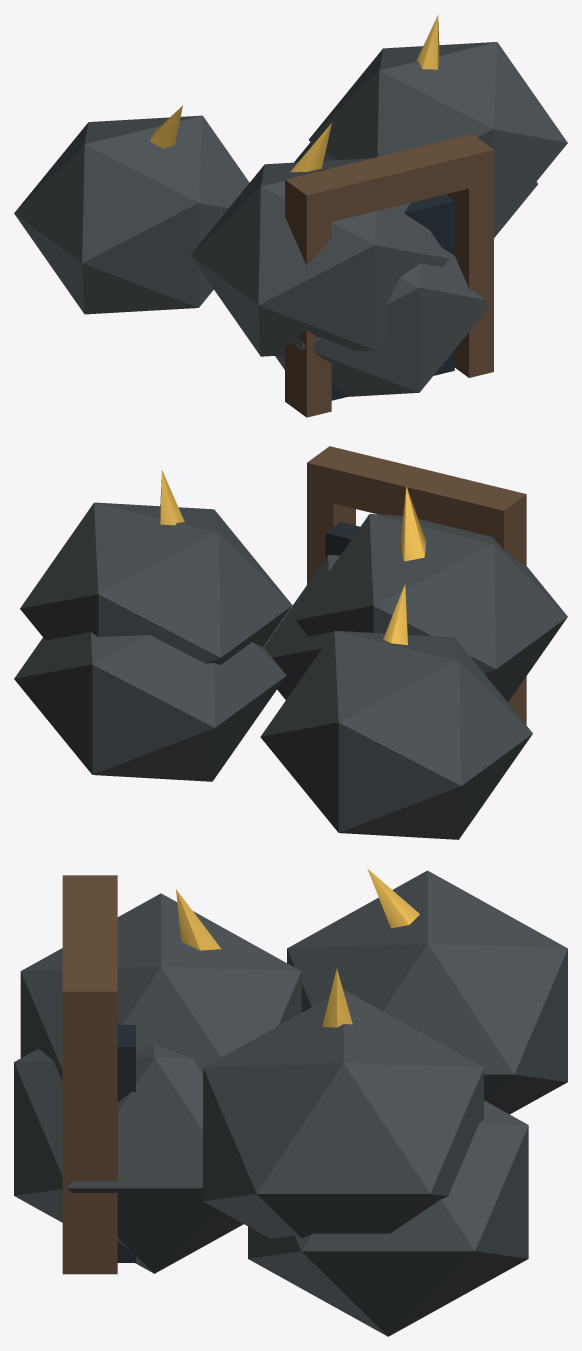
The model's file is goldmine.glb.
3 views of the same model, one above another, from view 1: azimuth 30°, elevation 25°; view 2: azimuth 150°, elevation 25°; view 3: azimuth 270°, elevation 25° (orthographic). The views are drawn at different scales.
Parts seen in each view (by area): view 1: goldmine; view 2: goldmine; view 3: goldmine.
Part boxes in pixels (x1,y1,x2,y2): goldmine: (14,14,567,417); goldmine: (14,446,567,839); goldmine: (14,868,567,1336).
Bounding box in the file's own units: 3.63 × 2.16 × 3.02.
